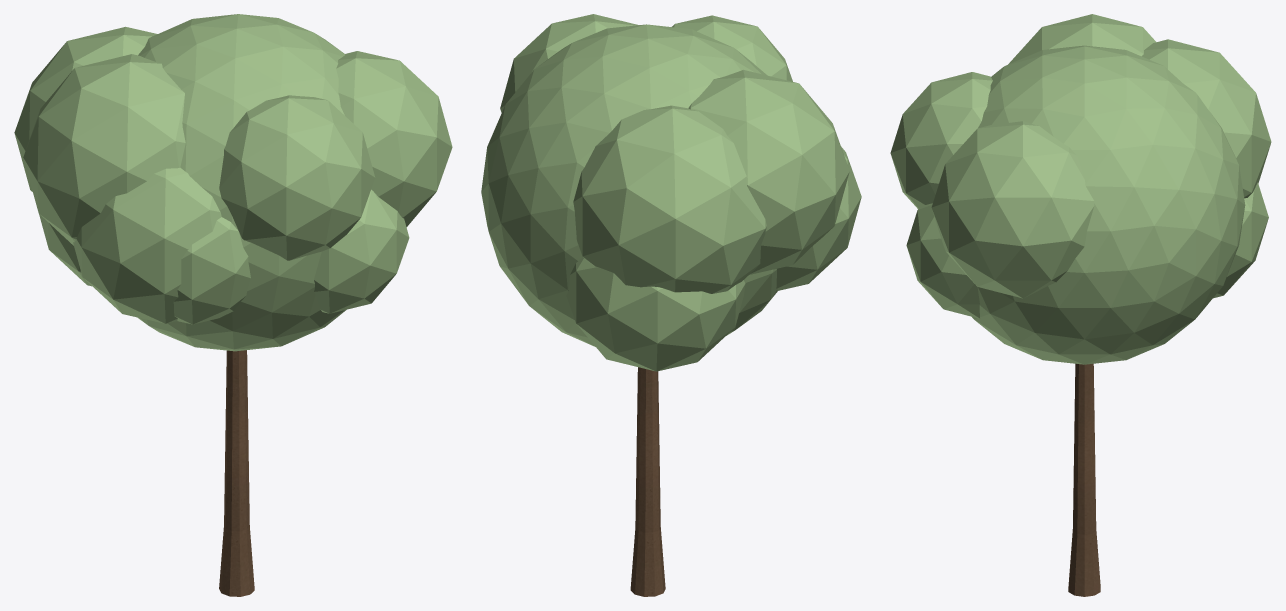
Rendered from tree.glb.
The picture shows the model from 3 angles, left to right: view 1: azimuth 30°, elevation 25°; view 2: azimuth 150°, elevation 25°; view 3: azimuth 270°, elevation 25°; orthographic projection. The views are drawn at different scales.
Visible parts, largest first — view 1: tree_leaf, tree_bark; view 2: tree_leaf, tree_bark; view 3: tree_leaf, tree_bark.
Boxes of the visible parts, x1=… form: tree_leaf: x1=14, y1=14, x2=452, y2=351; tree_bark: x1=219, y1=350, x2=254, y2=596; tree_leaf: x1=481, y1=14, x2=861, y2=371; tree_bark: x1=630, y1=367, x2=665, y2=596; tree_leaf: x1=890, y1=14, x2=1271, y2=364; tree_bark: x1=1068, y1=363, x2=1100, y2=596.
Size of the model in its own units: 4.22 by 6.19 by 4.03.
2 materials, 1 textured.
